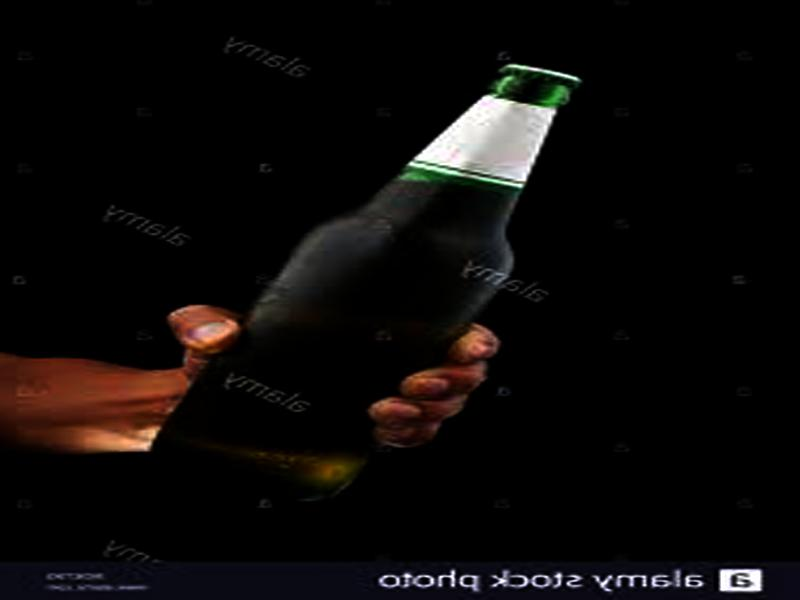Beer: (152, 60, 586, 506)
